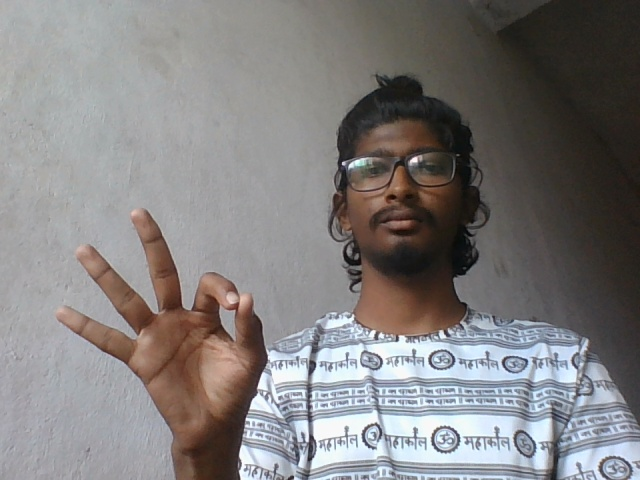Washroom: (44, 202, 275, 465)
